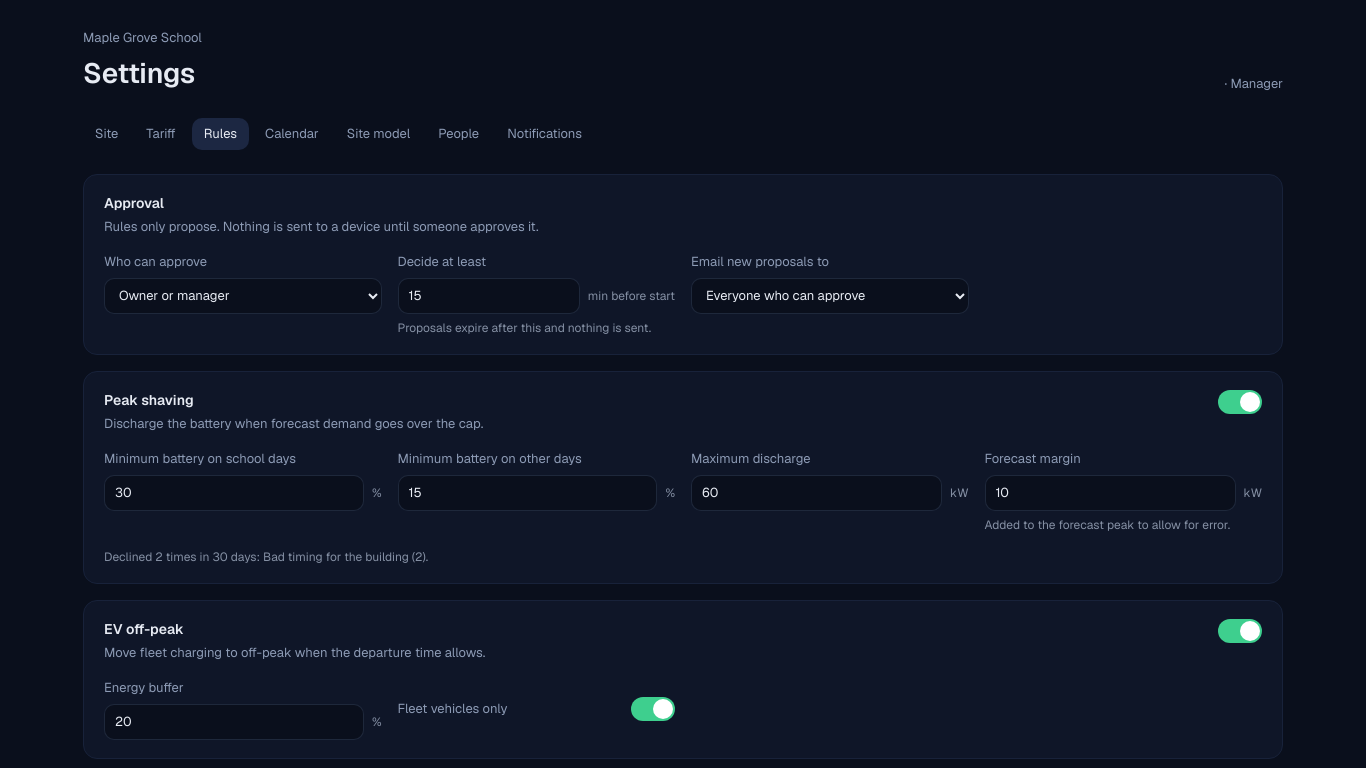
Settings save bar › keeps drafts while switching tabs, and discards them together
The width and height of the screenshot is (1366, 768).
Click the switch named "Peak shaving on".
click(1240, 402)  # box left=1218, top=390, right=1262, bottom=414
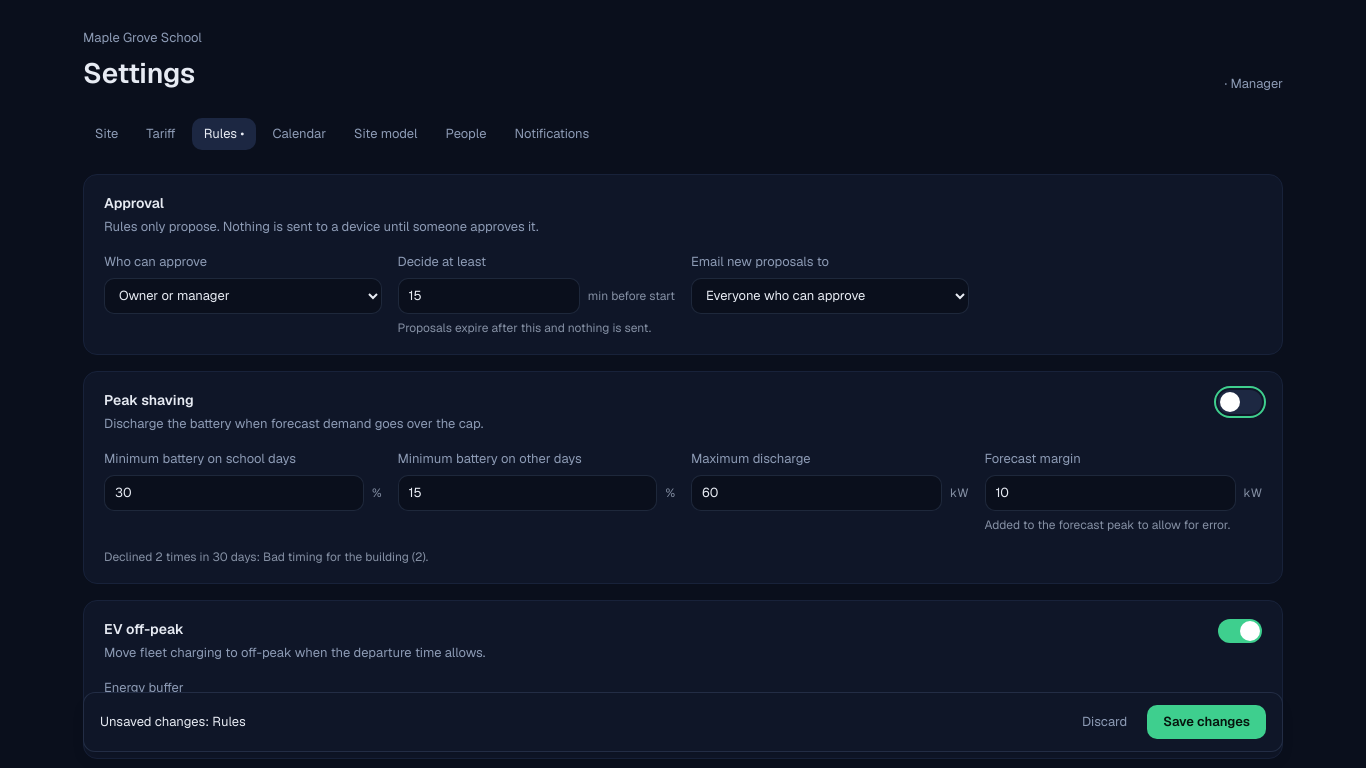
Click the tab "Calendar".
click(299, 134)  # box left=260, top=118, right=338, bottom=150
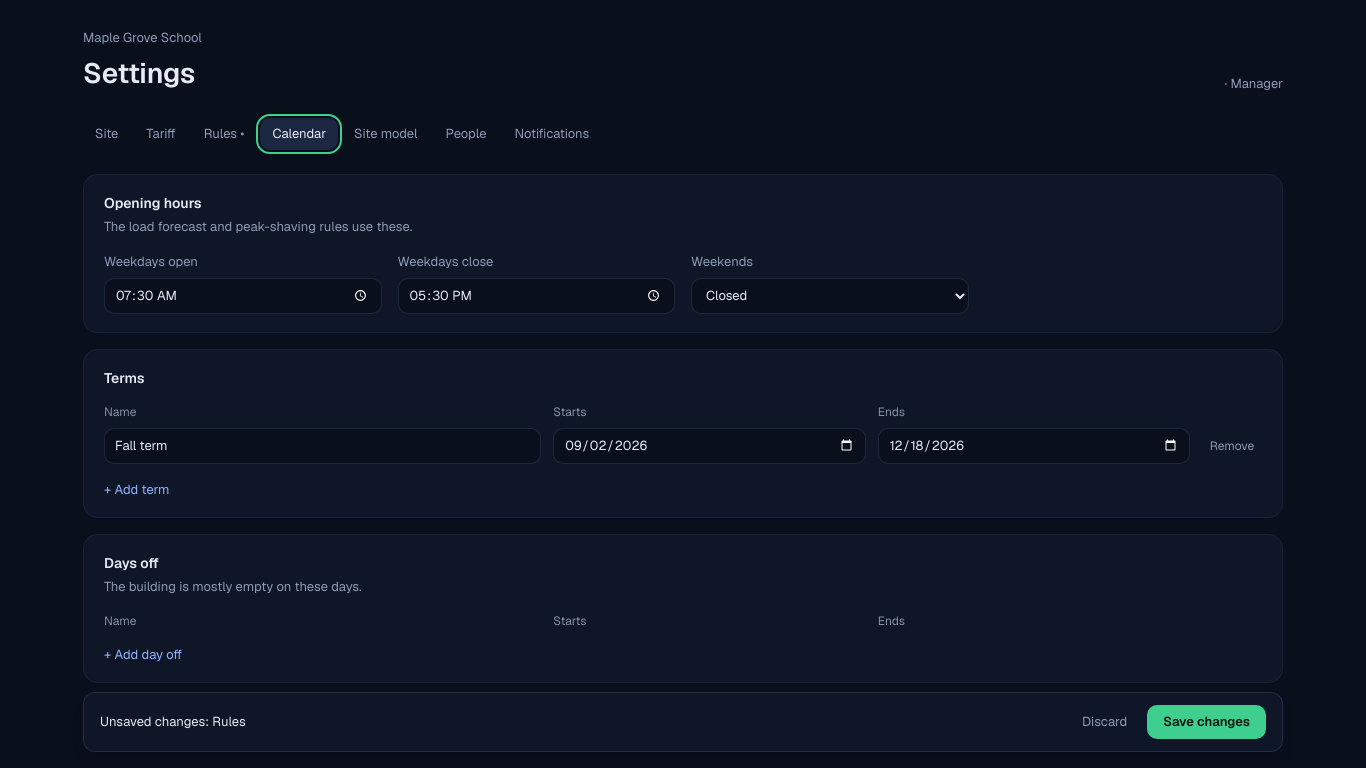
Replace the text in the time field labelled "Weekdays open" with "08:00" at [243, 296], box left=104, top=278, right=382, bottom=314
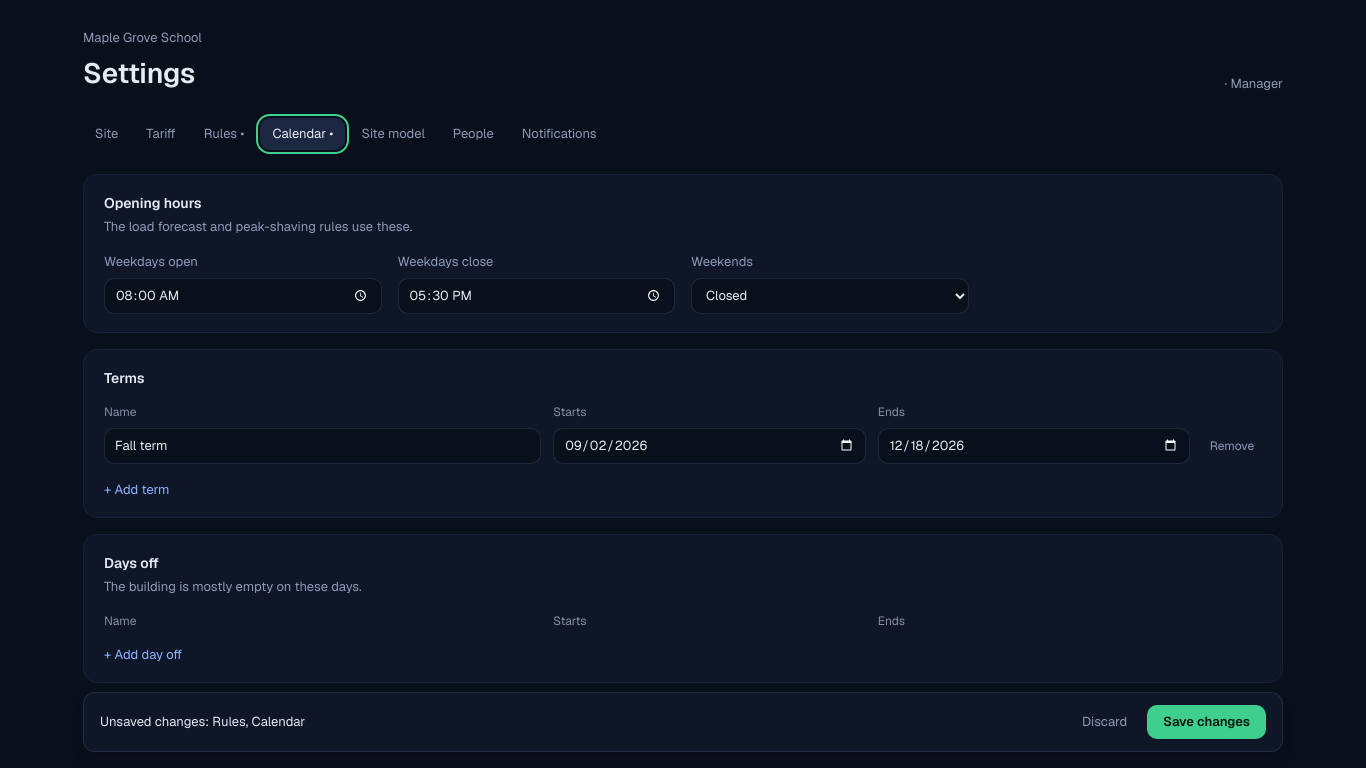
Now the tab "Rules •" is shown, box left=192, top=118, right=256, bottom=150
Now the element "Unsaved changes" shows "Unsaved changes: Rules, Calendar", box left=100, top=713, right=305, bottom=730
Click the button "Discard".
click(1105, 722)  # box left=1070, top=705, right=1139, bottom=739
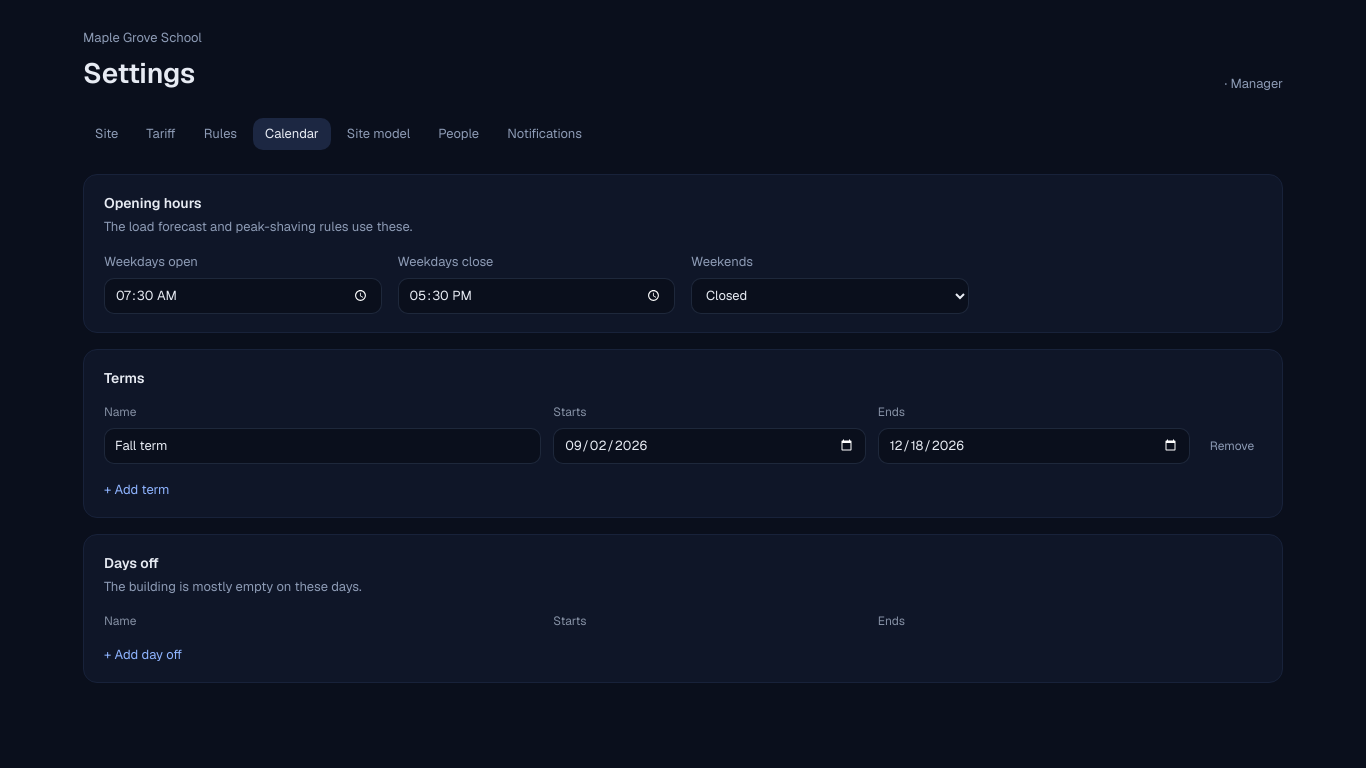
Now the text "Unsaved changes" is gone
Now the time field labelled "Weekdays open" holds "07:30", box left=104, top=278, right=382, bottom=314
